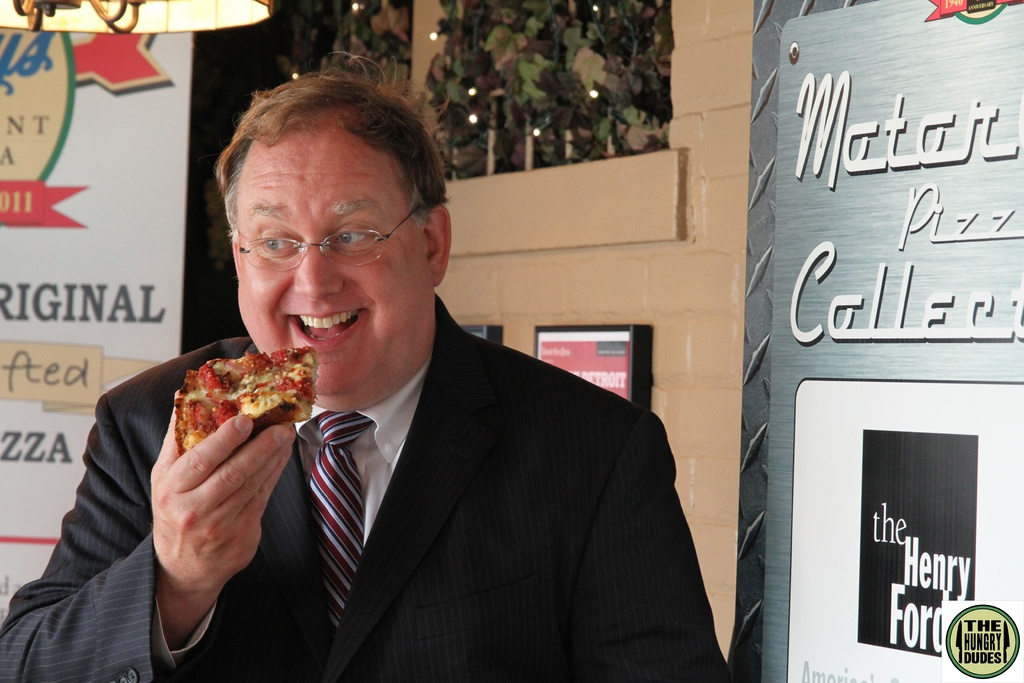Pizza: (154, 356, 314, 465)
